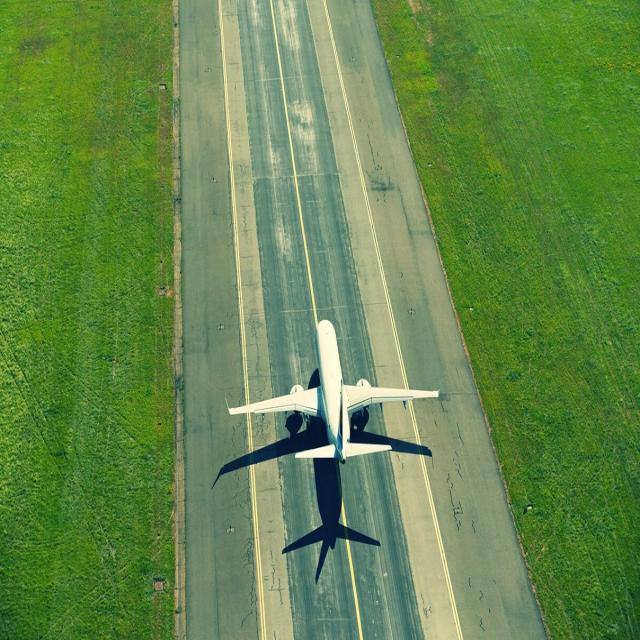plain: (213, 303, 439, 486)
